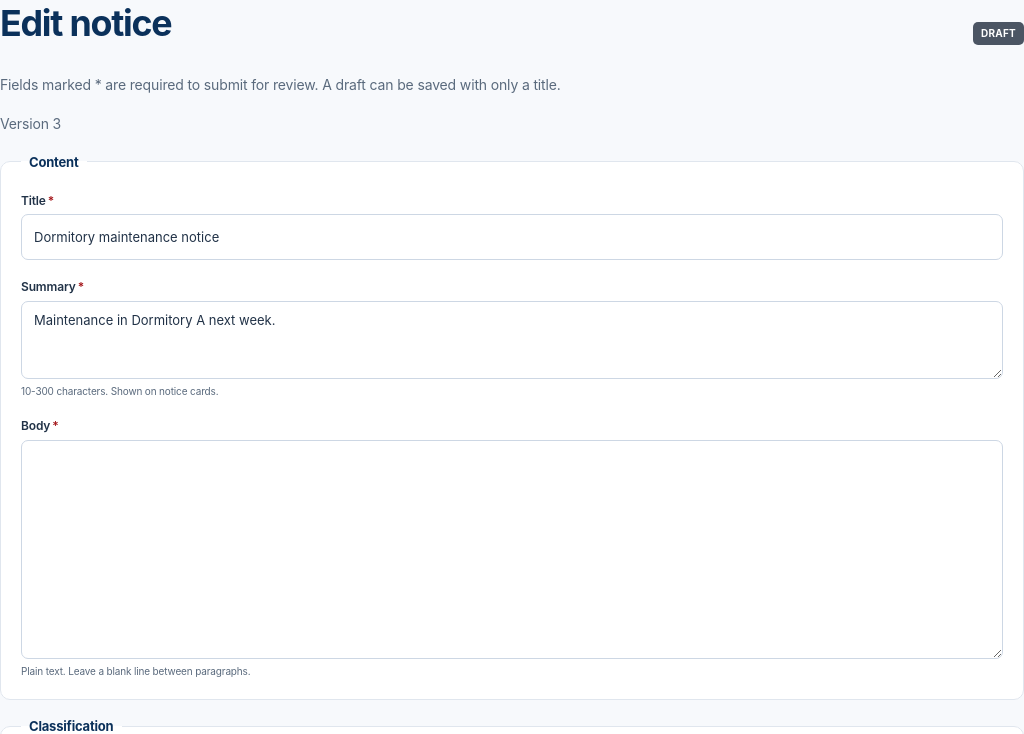
Scenario: FE NoticeEditor › FE-4 shows the conflict banner on a 409 response and keeps the typed text
Expected: the text with test id "version" reads "Version 3", [0, 116, 61, 132]
Replace the text in the field labelled "Title*" with "Dormitory B maintenance (my edit)" at (512, 237), box [21, 214, 1003, 260]
(page scrolled)
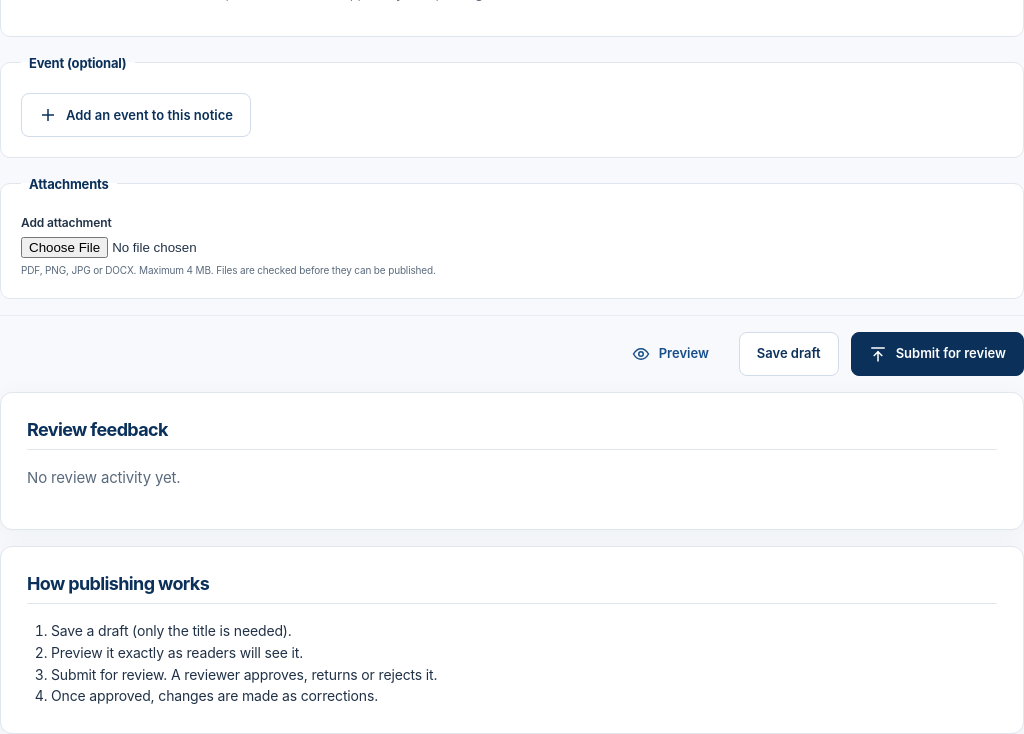
Click the button "Save draft".
click(789, 354)  # box [739, 332, 839, 376]
(page scrolled)
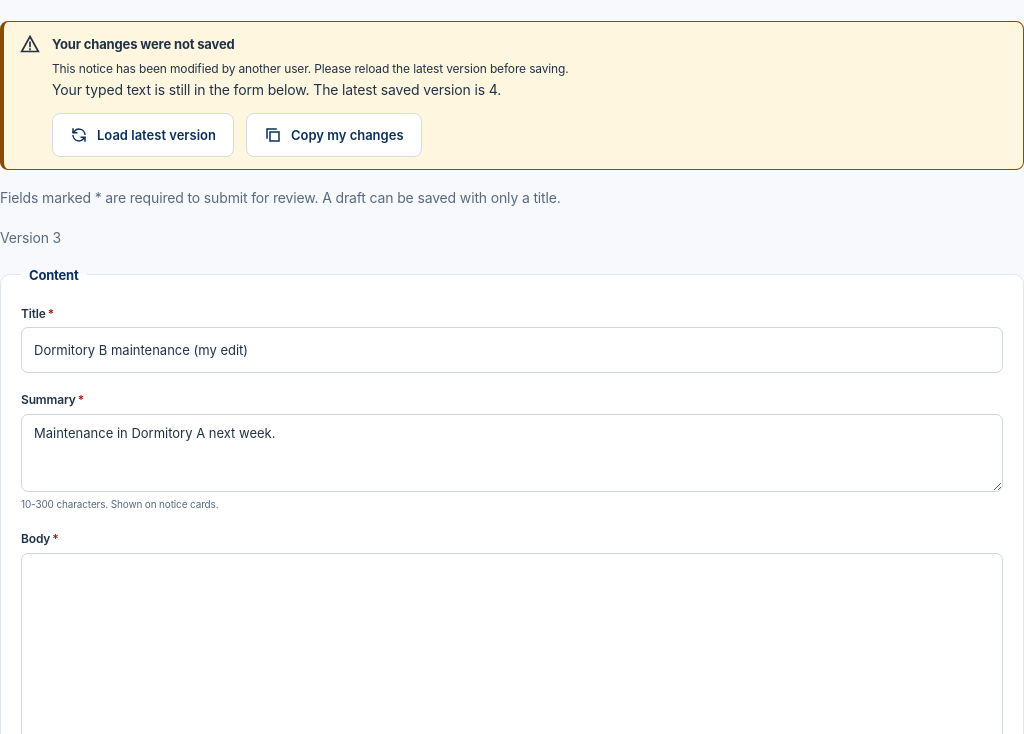
Expected: the text "Your changes were not saved" is shown, [52, 36, 235, 52]
Expected: the text "This notice has been modified by another user. Please reload the latest version before saving." is shown, [52, 60, 569, 76]
Expected: the button "Load latest version" is shown, [52, 113, 234, 157]
